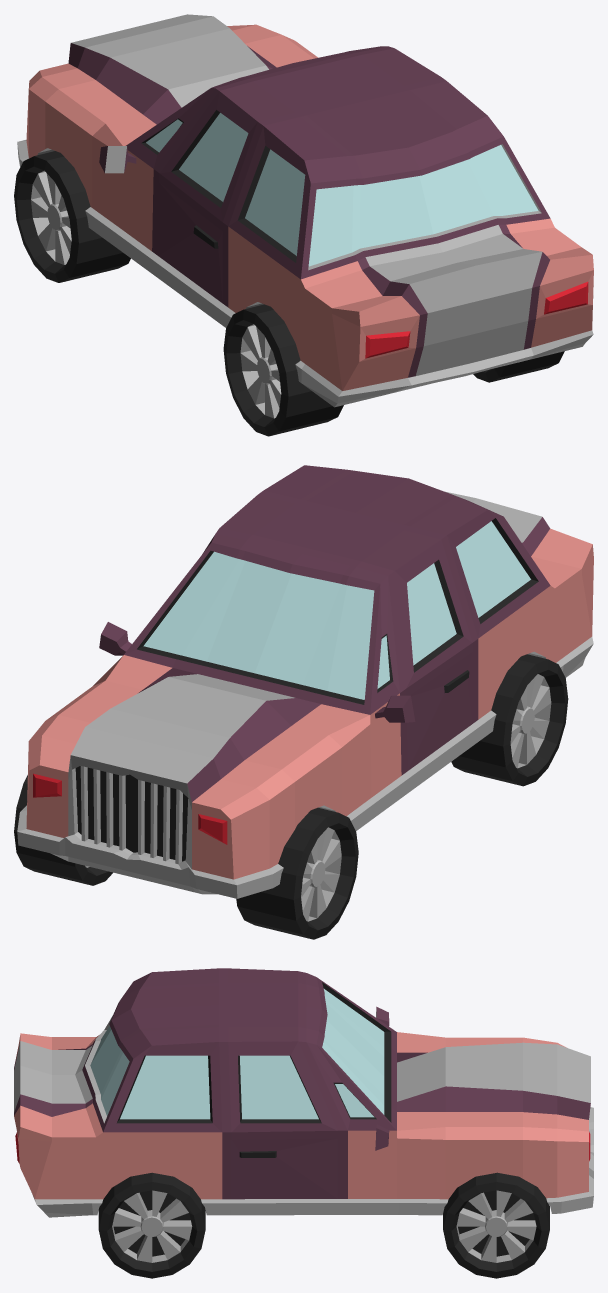
File: Player.fbx
The picture shows the model from 3 angles, top to bottom: view 1: azimuth 30°, elevation 25°; view 2: azimuth 150°, elevation 25°; view 3: azimuth 270°, elevation 25°; orthographic projection. The views are drawn at different scales.
Parts seen in each view (by area): view 1: Car, Back Right, Front Right, Back Left; view 2: Car, Front Right, Back Right, Front Left; view 3: Car, Back Left, Front Left.
Boxes of the visible parts, <box> form: Car: <box>17,14,593,407</box>; Back Right: <box>223,304,343,436</box>; Front Right: <box>14,151,130,282</box>; Back Left: <box>473,351,564,382</box>; Car: <box>17,465,593,898</box>; Front Right: <box>236,807,358,939</box>; Back Right: <box>451,654,568,786</box>; Front Left: <box>14,775,112,885</box>; Car: <box>14,968,593,1217</box>; Back Left: <box>98,1172,205,1278</box>; Front Left: <box>443,1172,549,1278</box>.
Size of the model in its own units: 249 by 202 by 489.
